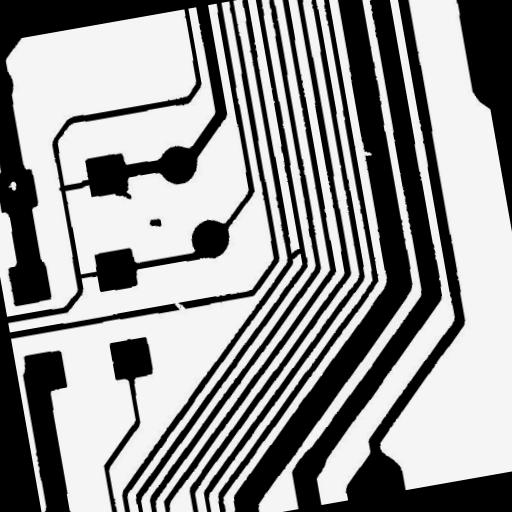copper: (140, 208, 170, 236)
mousebite: (350, 140, 380, 166)
open: (165, 292, 194, 320)
pin-hole: (0, 171, 25, 199)
short: (49, 170, 99, 200), (70, 262, 108, 288), (278, 239, 312, 268)
spur: (104, 177, 140, 210)
